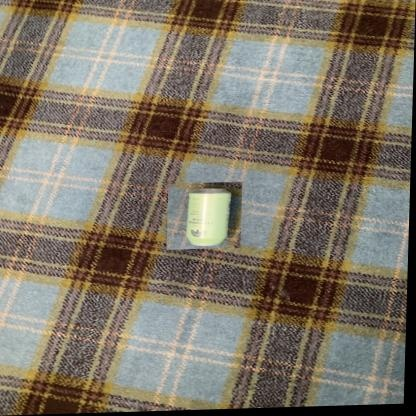trash: (186, 189, 230, 245)
